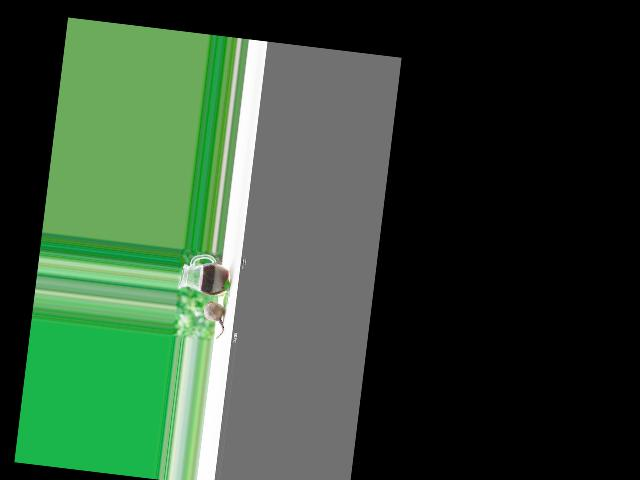beet: (201, 300, 227, 338)
